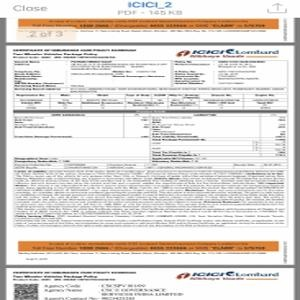image: (174, 47, 282, 59)
table: (14, 109, 287, 171), (15, 89, 288, 110)
text: (12, 170, 287, 227), (13, 43, 136, 60)
